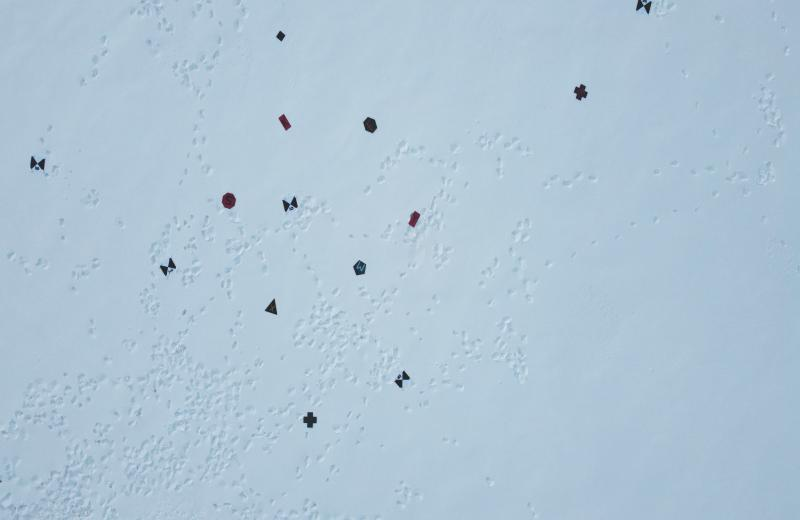Cross: (573, 83, 588, 101), (303, 411, 318, 428)
Hexagon: (362, 115, 378, 134)
Octagon: (221, 192, 237, 209)
Pentagon: (353, 259, 367, 276)
Rectangle: (278, 113, 292, 132), (407, 210, 421, 228)
Square: (276, 30, 286, 42)
Triangle: (264, 298, 278, 316)
